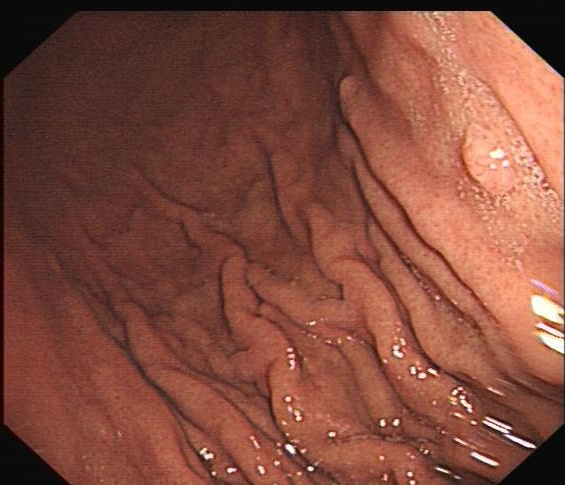Polyp: (460, 124, 518, 195)
